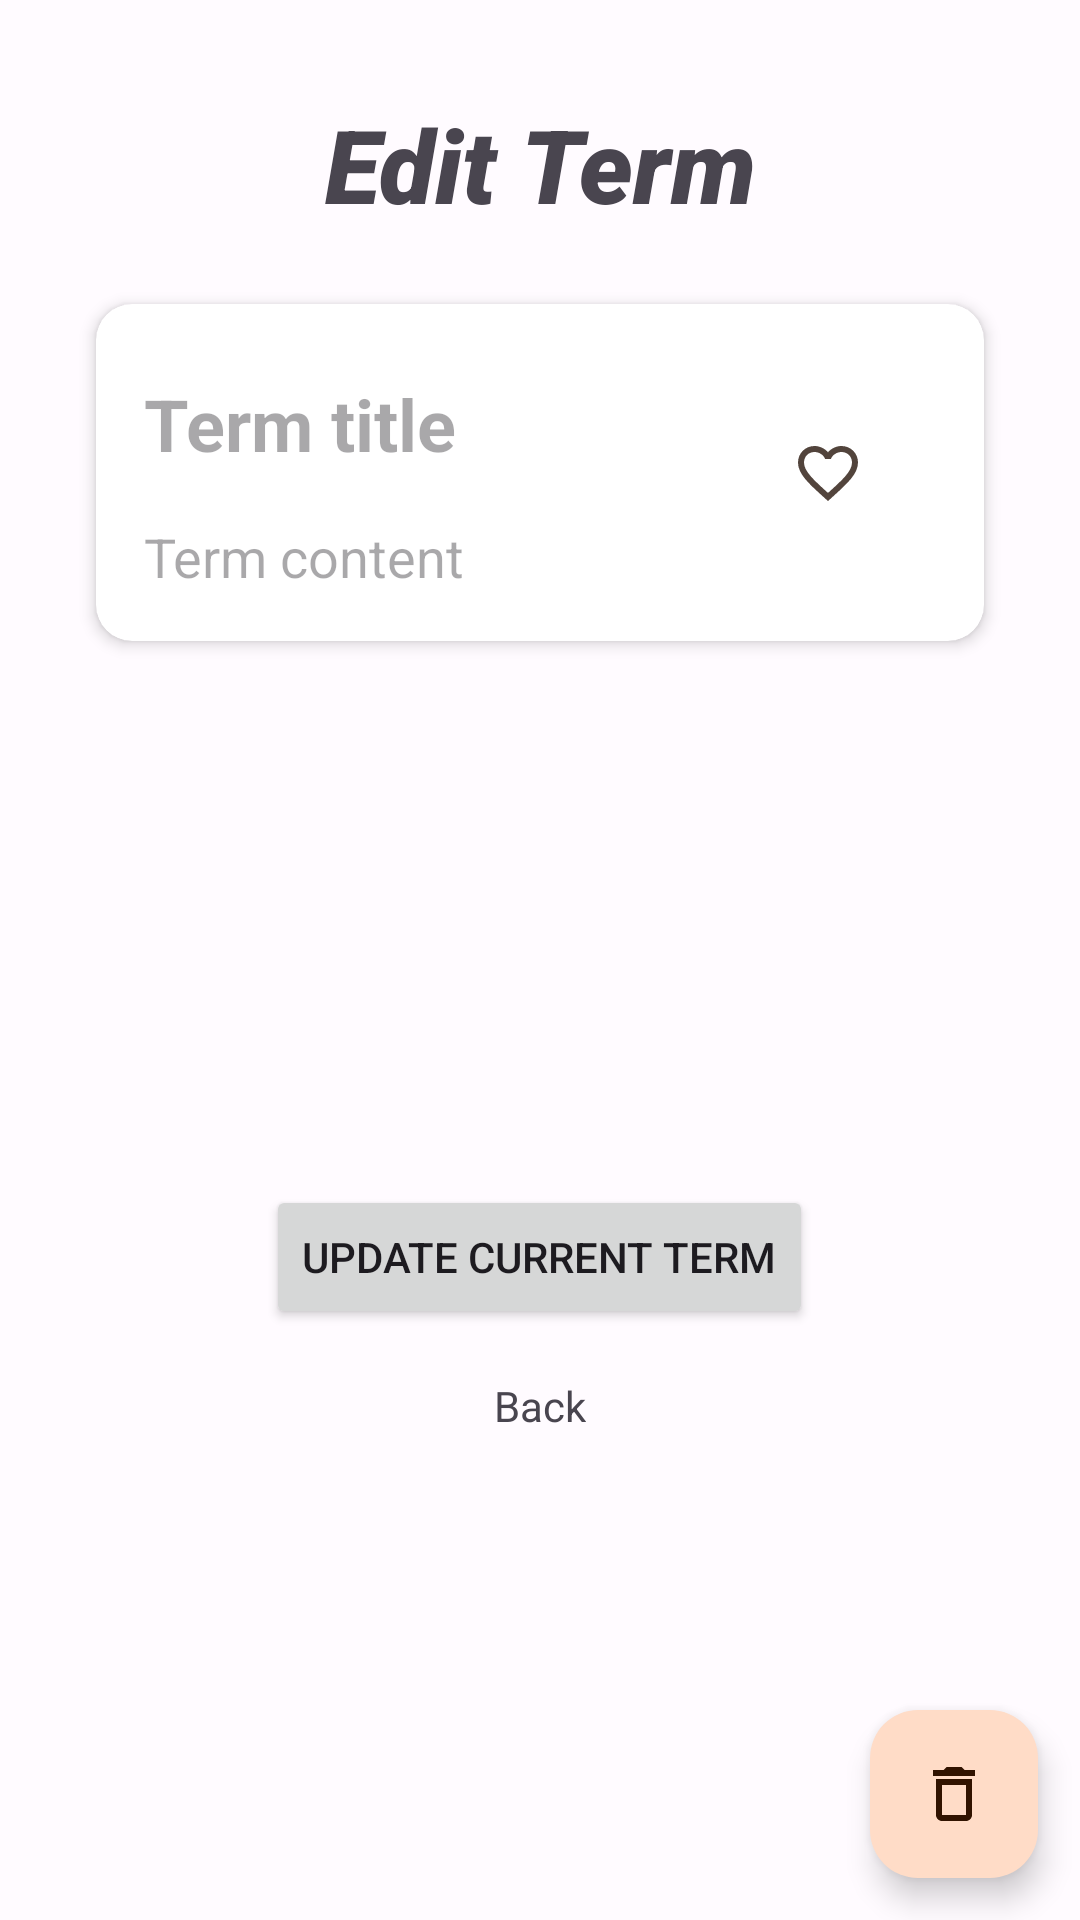

Icon bounding boxes for this 1080 × 1920 phone screenshot, format detection(x1, y1, x2, y2):
checkbox favorite: detection(798, 446, 858, 501)
delete: detection(870, 1710, 1038, 1878)
